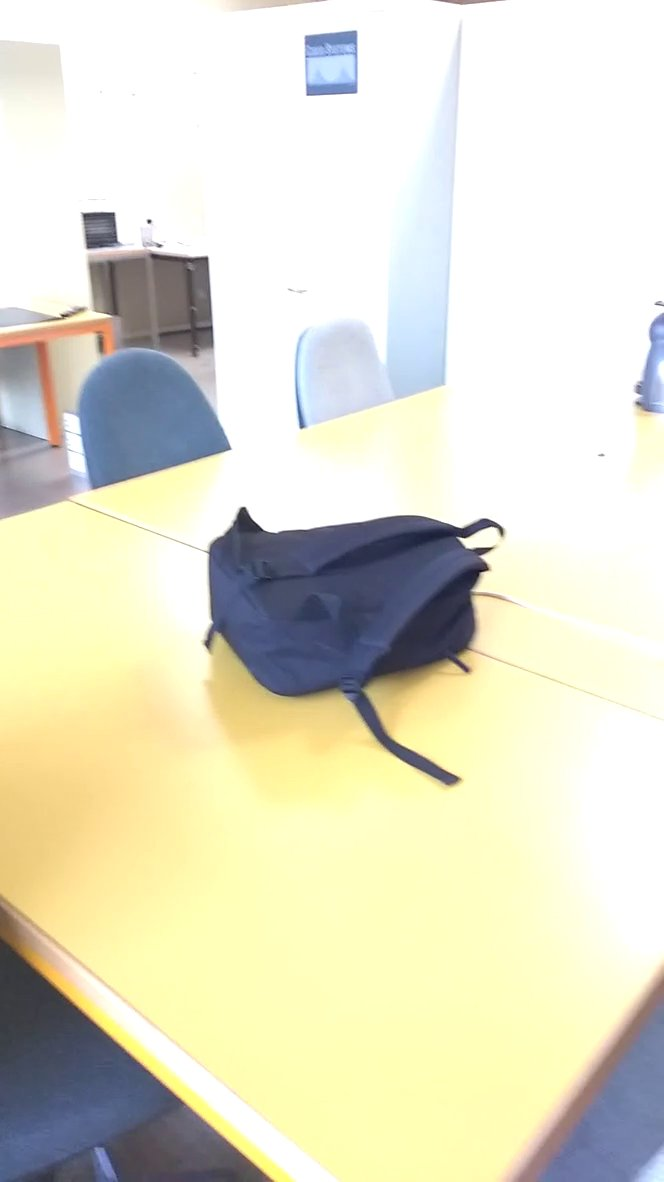bag: (180, 495, 536, 796)
chair: (66, 339, 240, 501), (287, 313, 407, 430)
